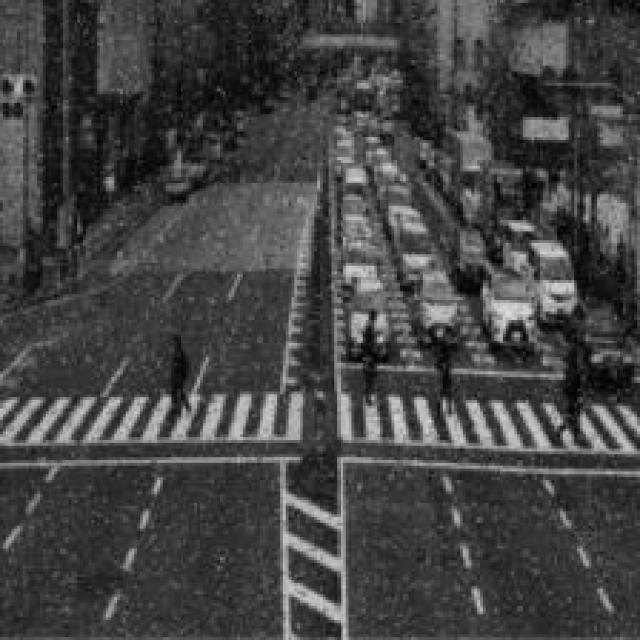walk-crossing: (0, 390, 637, 462)
